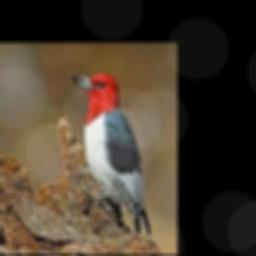Woodpecker: (71, 72, 151, 236)
